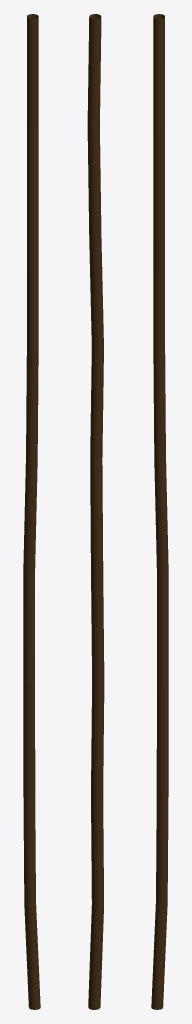
Rendered from Drain Pipe.FBX.
3 views of the same model, side by side, from view 1: azimuth 90°, elevation 25°; view 2: azimuth 210°, elevation 25°; view 3: azimuth 270°, elevation 25° (orthographic).
Parts seen in each view (by area): view 1: Object040, Object037, Object036, Object039, Object035, Object033, Object034, Object038, Cylinder016; view 2: Object033, Object036, Object037, Object039, Object034, Object038, Object040, Object035, Cylinder016; view 3: Object036, Object037, Object039, Object040, Object033, Object038, Object034, Object035, Cylinder016.
Boxes of the visible parts, bbox=[...] form: Object040: bbox=[23, 793, 35, 906]; Object037: bbox=[23, 460, 37, 572]; Object036: bbox=[26, 350, 38, 461]; Object039: bbox=[23, 682, 35, 794]; Object035: bbox=[27, 237, 38, 351]; Object033: bbox=[27, 14, 38, 127]; Object034: bbox=[27, 126, 38, 239]; Object038: bbox=[23, 571, 34, 684]; Cylinder016: bbox=[24, 905, 40, 1009]; Object033: bbox=[87, 14, 101, 128]; Object036: bbox=[90, 347, 103, 461]; Object037: bbox=[90, 460, 103, 574]; Object039: bbox=[91, 682, 104, 796]; Object034: bbox=[87, 126, 101, 239]; Object038: bbox=[91, 572, 104, 684]; Object040: bbox=[91, 794, 103, 906]; Object035: bbox=[89, 237, 103, 349]; Cylinder016: bbox=[88, 905, 103, 1009]; Object036: bbox=[153, 347, 165, 461]; Object037: bbox=[154, 459, 168, 572]; Object039: bbox=[156, 681, 168, 794]; Object040: bbox=[156, 793, 168, 904]; Object033: bbox=[153, 14, 164, 128]; Object038: bbox=[157, 571, 168, 682]; Object034: bbox=[153, 127, 164, 239]; Object035: bbox=[153, 237, 164, 348]; Cylinder016: bbox=[151, 903, 167, 1009].
Bounding box in the file's own units: 0.9261 × 59.06 × 0.9321.
